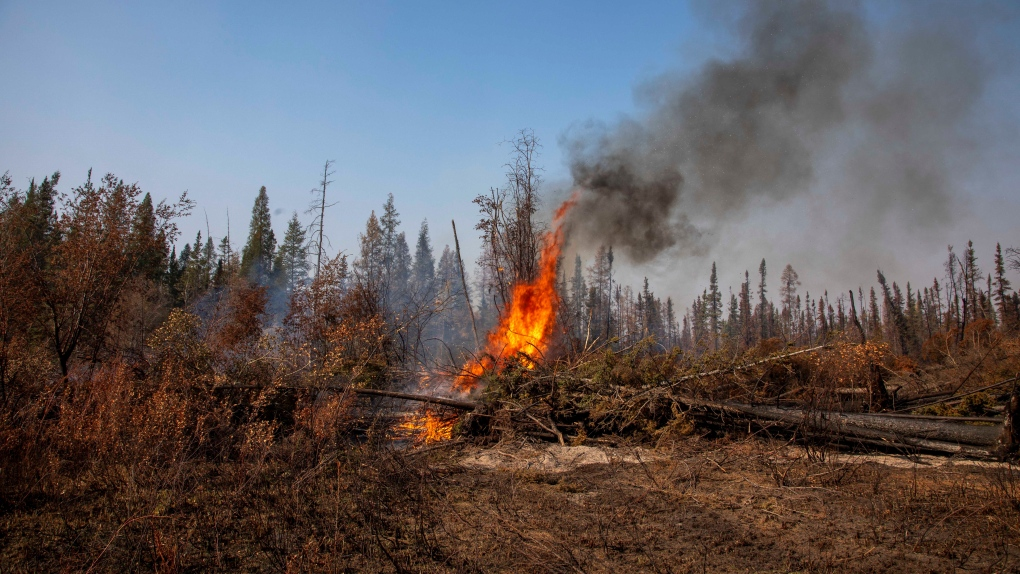fire: (397, 214, 598, 457)
